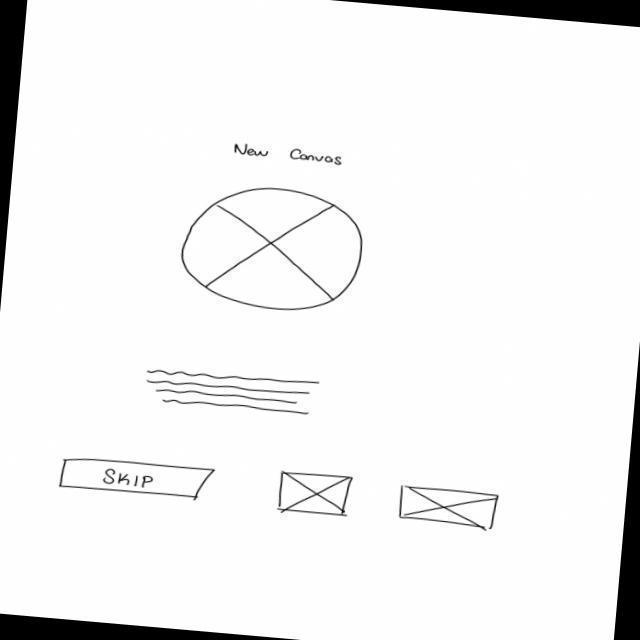button: (57, 453, 218, 502)
image: (174, 180, 372, 319), (396, 484, 504, 533), (273, 468, 355, 521)
label: (230, 143, 349, 170)
textbox: (142, 363, 326, 421)
